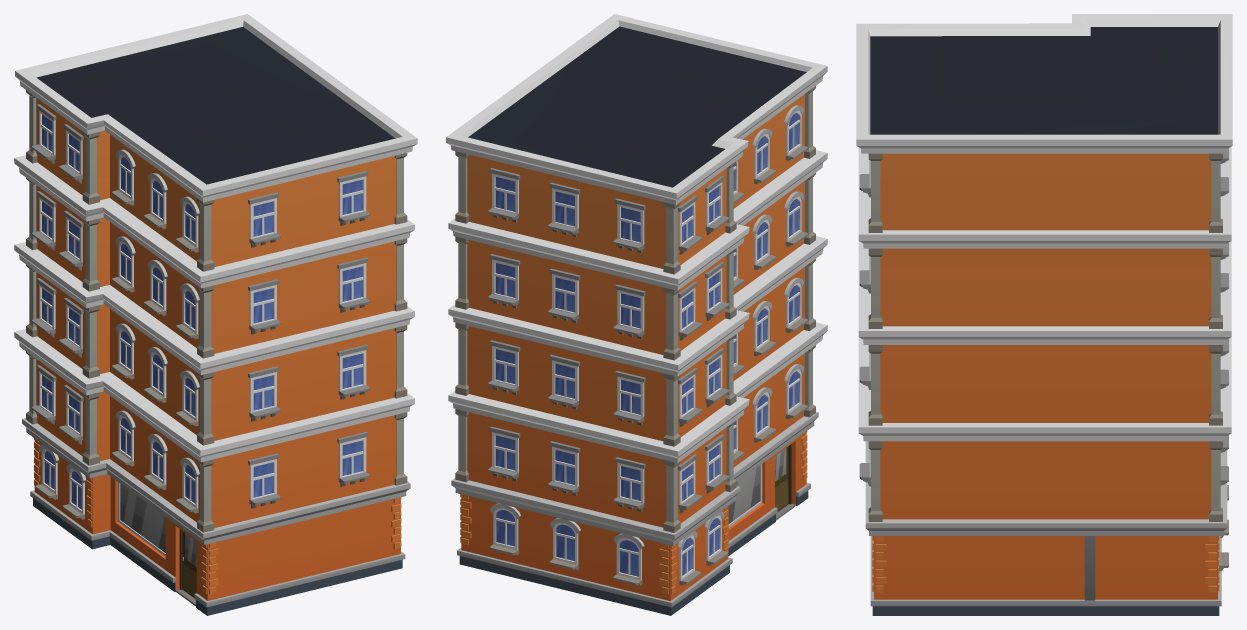
File: Building_1_5_F.fbx
The picture shows the model from 3 angles, left to right: view 1: azimuth 30°, elevation 25°; view 2: azimuth 150°, elevation 25°; view 3: azimuth 270°, elevation 25°; orthographic projection. The views are drawn at different scales.
Parts seen in each view (by area): view 1: Building_1_5_F; view 2: Building_1_5_F; view 3: Building_1_5_F.
Boxes of the visible parts, <box> form: Building_1_5_F: <box>14,14,417,615</box>; Building_1_5_F: <box>446,14,827,615</box>; Building_1_5_F: <box>856,14,1232,615</box>.
Size of the model in its own units: 847 by 1501 by 1067.
